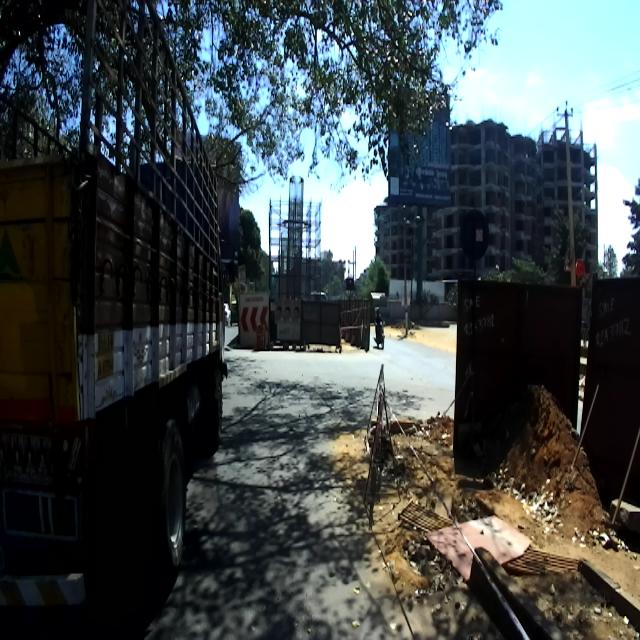truck ahead at: (1, 1, 224, 615)
